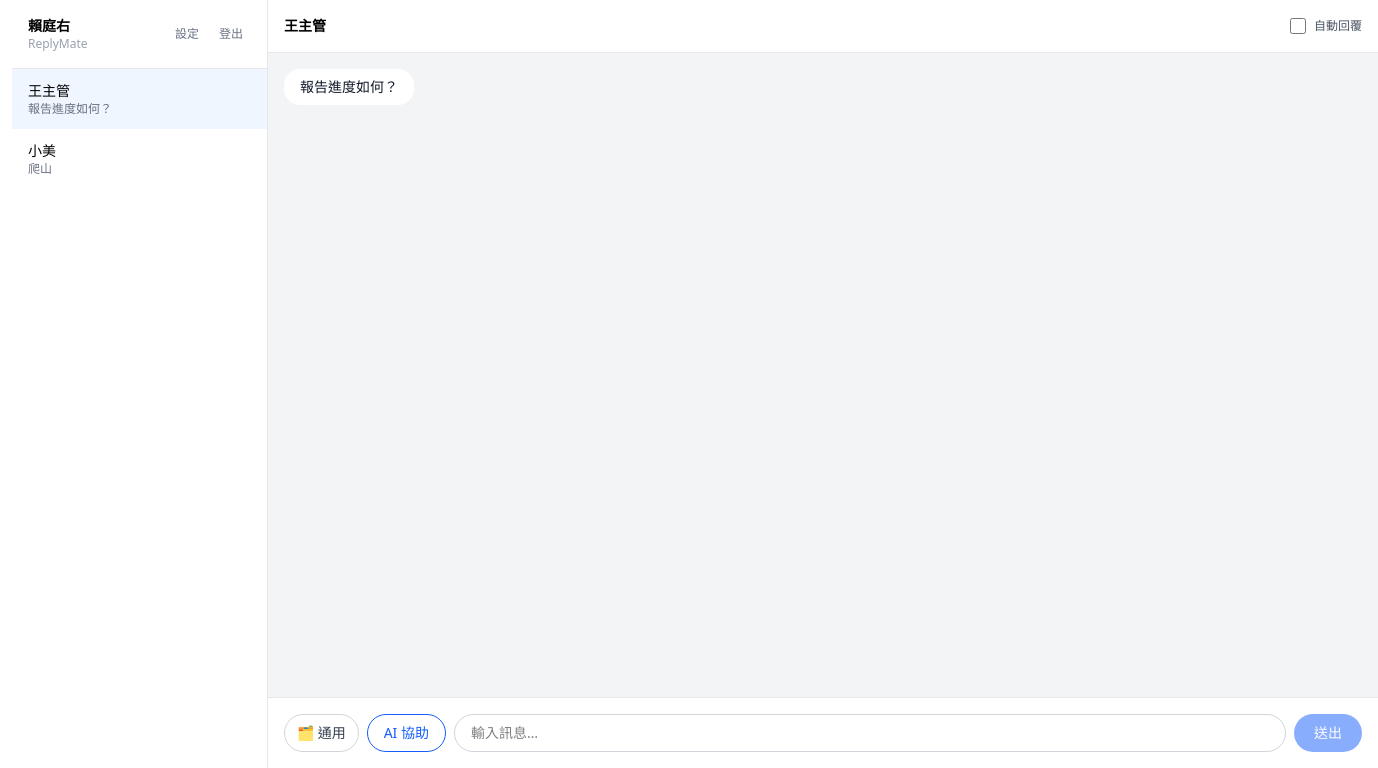
Test: ChatApp — 語料分類選擇 › PUT 失敗時顯示錯誤且按鈕維持原分類
Click the button with aria-label "語料分類" at coordinates (321, 733), box [284,714,359,752]
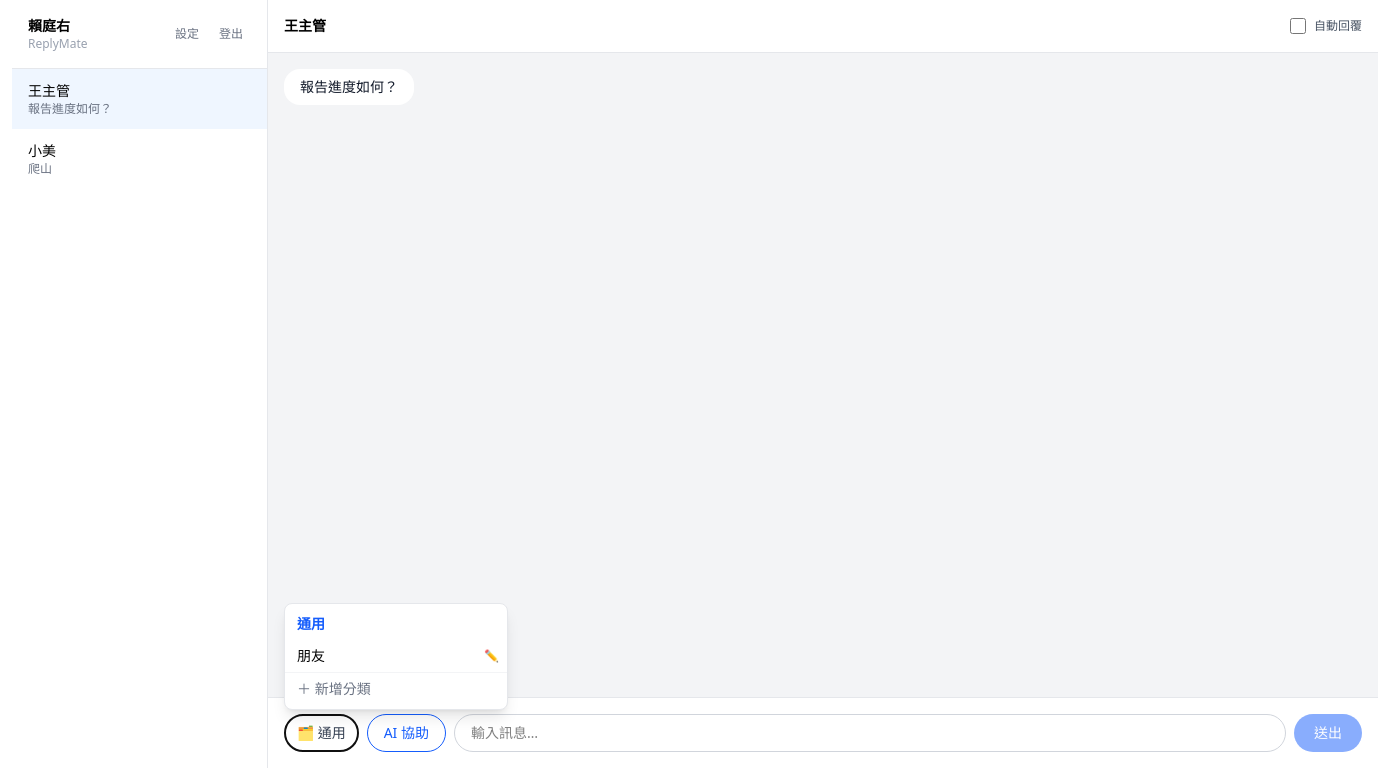
Click the button "朋友" at coordinates (380, 656), box [285,640,476,672]
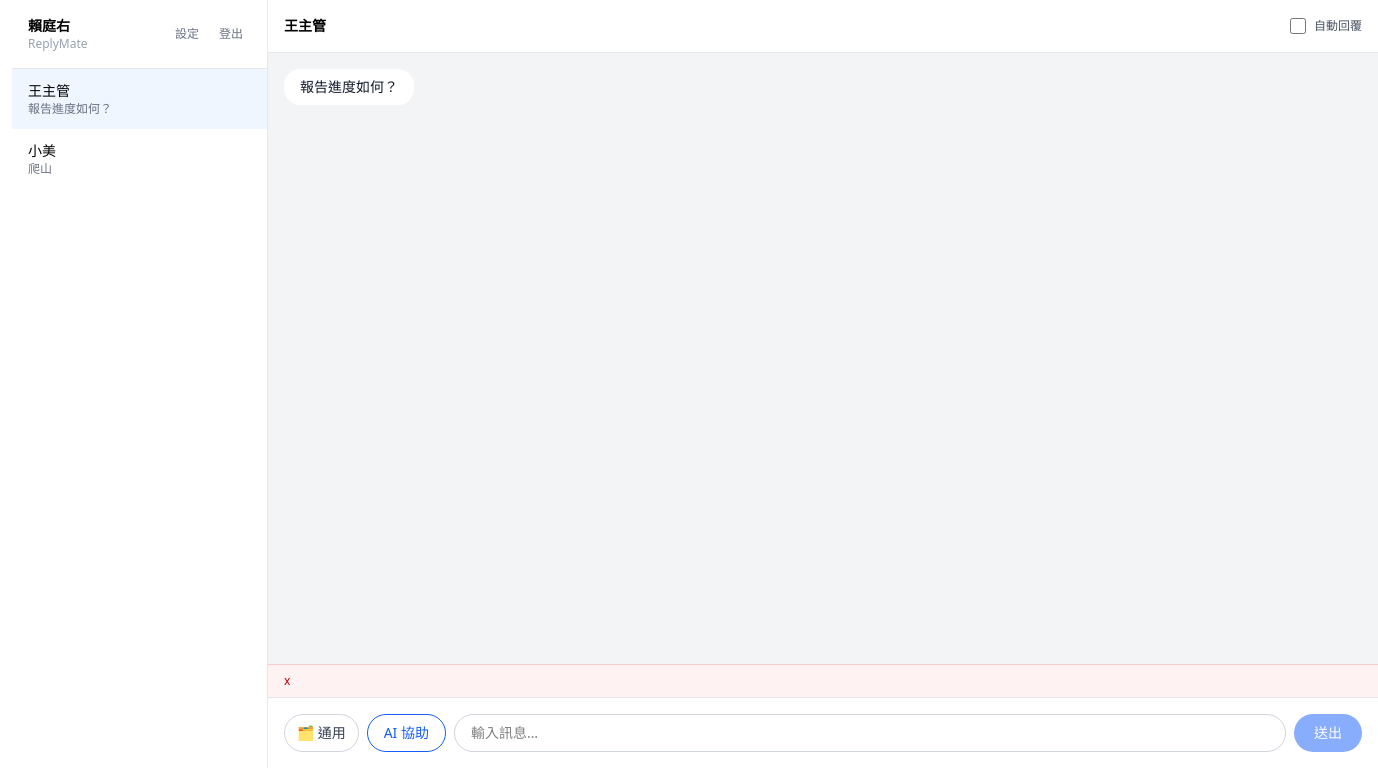
expect the button with aria-label "語料分類" shows "通用": met, box [284,714,359,752]
expect the message "x" is shown: met, box [268,664,1377,697]
